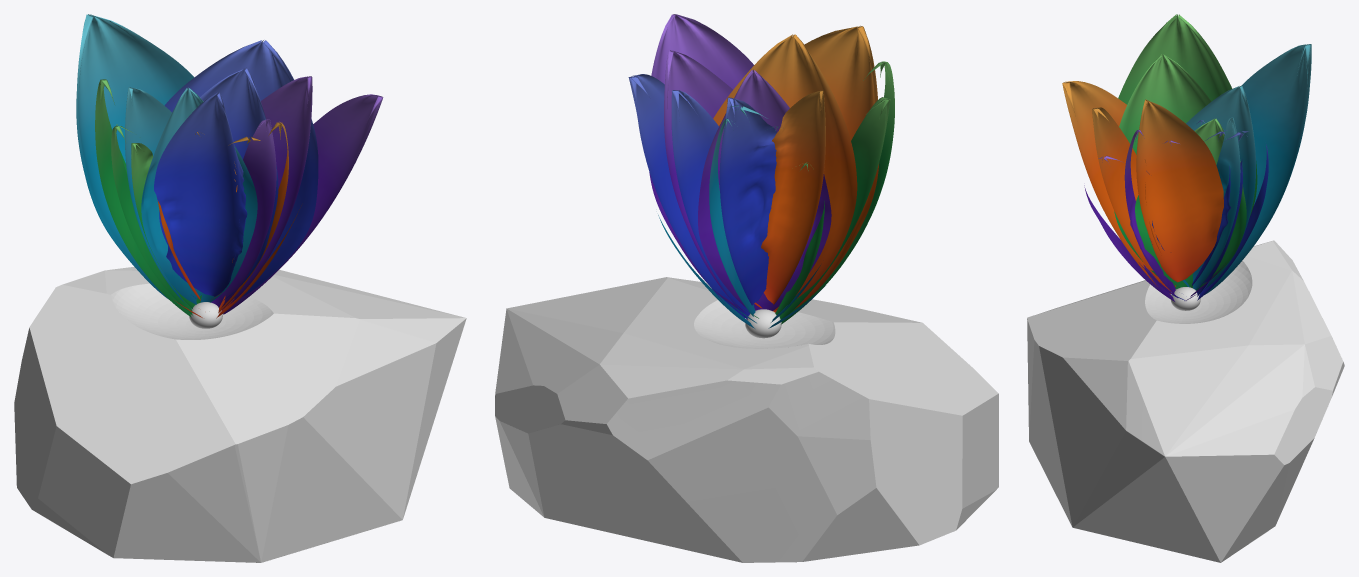
Rendered from flor.glb.
3 views of the same model, side by side, from view 1: azimuth 30°, elevation 25°; view 2: azimuth 150°, elevation 25°; view 3: azimuth 270°, elevation 25° (orthographic). The views are drawn at different scales.
Parts seen in each view (by area): view 1: Roca_Cristal.001, Petalo_Der_Sube, Petalo_Izq_Grande, Petalo_Der_Caido, Petalo_Frente_Izq, Petalo_Der_BajoFrente, Petalo_Central, Petalo_Capa_FrenteDer, Petalo_Der_Grande, Petalo_Izq_Medio, Petalo_Capa_FrenteIzq, Petalo_Izq_Alto (+3 smaller); view 2: Roca_Cristal.001, Petalo_Der_Sube, Petalo_Capa_AtrasDer, Petalo_Der_Medio, Petalo_Izq_Bajo, Petalo_Capa_FrenteDer, Petalo_Der_Caido, Petalo_Der_Grande, Petalo_Frente_Izq, Petalo_Der_BajoFrente, Petalo_Izq_Alto, Petalo_Central (+4 smaller); view 3: Roca_Cristal.001, Petalo_Capa_AtrasDer, Petalo_Izq_Grande, Petalo_Izq_Medio, Petalo_Izq_Alto, Petalo_Izq_Bajo, Petalo_Der_Medio, Petalo_Capa_FrenteIzq, Petalo_Central, Petalo_Capa_AtrasIzq, Petalo_Capa_FrenteDer, Petalo_Der_Caido (+4 smaller).
Boxes of the visible parts, x1=… form: Roca_Cristal.001: x1=14, y1=267, x2=466, y2=562; Petalo_Der_Sube: x1=154, y1=92, x2=247, y2=296; Petalo_Izq_Grande: x1=76, y1=14, x2=194, y2=299; Petalo_Der_Caido: x1=164, y1=40, x2=318, y2=296; Petalo_Frente_Izq: x1=222, y1=94, x2=383, y2=314; Petalo_Der_BajoFrente: x1=211, y1=76, x2=312, y2=308; Petalo_Central: x1=141, y1=87, x2=257, y2=304; Petalo_Capa_FrenteDer: x1=212, y1=119, x2=276, y2=307; Petalo_Der_Grande: x1=193, y1=67, x2=278, y2=302; Petalo_Izq_Medio: x1=95, y1=79, x2=191, y2=317; Petalo_Capa_FrenteIzq: x1=125, y1=87, x2=191, y2=308; Petalo_Izq_Alto: x1=111, y1=124, x2=192, y2=315; Roca_Cristal.001: x1=495, y1=277, x2=998, y2=562; Petalo_Der_Sube: x1=719, y1=97, x2=776, y2=305; Petalo_Capa_AtrasDer: x1=761, y1=90, x2=825, y2=304; Petalo_Der_Medio: x1=713, y1=34, x2=857, y2=310; Petalo_Izq_Bajo: x1=773, y1=25, x2=879, y2=312; Petalo_Capa_FrenteDer: x1=698, y1=69, x2=831, y2=310; Petalo_Der_Caido: x1=628, y1=74, x2=745, y2=318; Petalo_Der_Grande: x1=671, y1=90, x2=750, y2=319; Petalo_Frente_Izq: x1=649, y1=14, x2=753, y2=308; Petalo_Der_BajoFrente: x1=664, y1=50, x2=745, y2=312; Petalo_Izq_Alto: x1=779, y1=97, x2=890, y2=319; Petalo_Central: x1=709, y1=118, x2=755, y2=316; Roca_Cristal.001: x1=1027, y1=240, x2=1344, y2=562; Petalo_Capa_AtrasDer: x1=1136, y1=99, x2=1223, y2=282; Petalo_Izq_Grande: x1=1200, y1=44, x2=1311, y2=294; Petalo_Izq_Medio: x1=1118, y1=14, x2=1257, y2=215; Petalo_Izq_Alto: x1=1114, y1=54, x2=1211, y2=289; Petalo_Izq_Bajo: x1=1062, y1=81, x2=1175, y2=293; Petalo_Der_Medio: x1=1092, y1=107, x2=1170, y2=293; Petalo_Capa_FrenteIzq: x1=1182, y1=85, x2=1255, y2=289; Petalo_Central: x1=1193, y1=117, x2=1240, y2=290; Petalo_Capa_AtrasIzq: x1=1135, y1=118, x2=1246, y2=289; Petalo_Capa_FrenteDer: x1=1124, y1=129, x2=1175, y2=293; Petalo_Der_Caido: x1=1171, y1=131, x2=1268, y2=300.
Bounding box in the file's own units: 1.3 × 1.33 × 0.9431.
